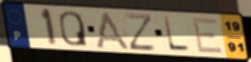1: (39, 7, 60, 47)
A: (93, 10, 133, 52)
E: (190, 17, 225, 55)
L: (162, 15, 192, 53)
Q: (57, 9, 90, 48)
Z: (123, 12, 158, 53)
